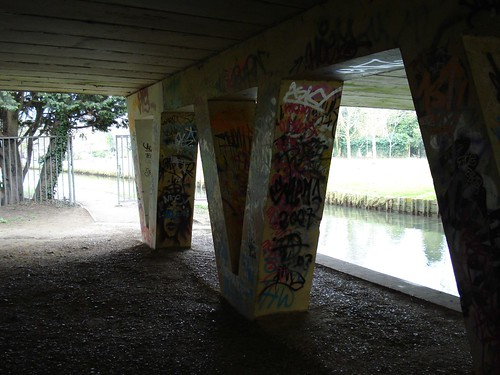collumn: (206, 73, 367, 326), (117, 92, 207, 277)
graffiti: (413, 36, 500, 357), (257, 75, 334, 323), (157, 109, 201, 242), (288, 22, 413, 66)
river: (43, 179, 500, 299)
